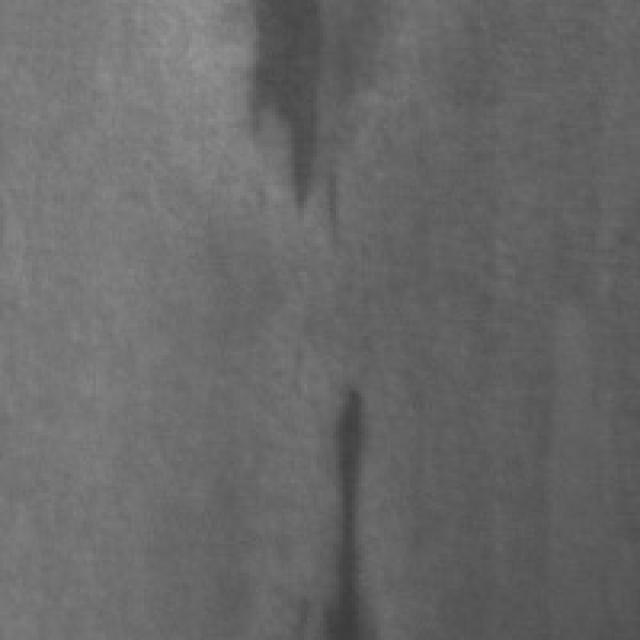inclusion: (278, 371, 397, 634), (224, 0, 342, 227)
